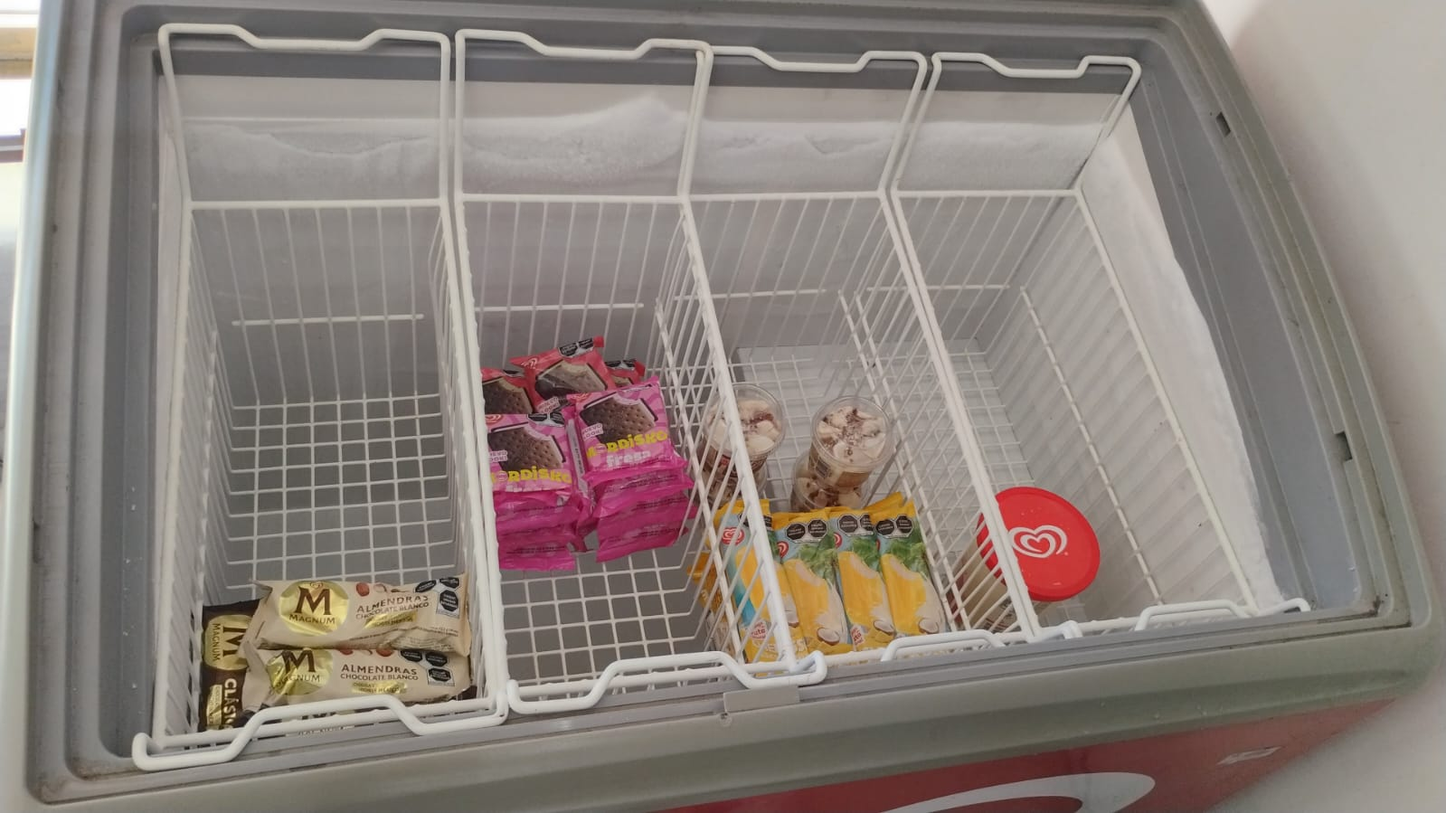rejilla: (1078, 193, 1255, 606), (881, 196, 1030, 633), (894, 196, 1038, 630), (685, 203, 794, 663), (444, 206, 495, 696), (457, 200, 506, 687), (156, 210, 189, 737), (256, 713, 397, 734), (611, 670, 730, 685), (186, 201, 446, 207), (690, 193, 881, 200), (897, 640, 987, 653), (1151, 610, 1231, 622), (458, 196, 682, 200), (157, 732, 237, 743), (520, 683, 594, 694), (413, 702, 490, 712), (827, 651, 883, 661), (896, 192, 1077, 195), (1083, 621, 1136, 629), (743, 664, 787, 671), (1000, 634, 1031, 639), (1036, 630, 1052, 634), (1245, 607, 1255, 609)
